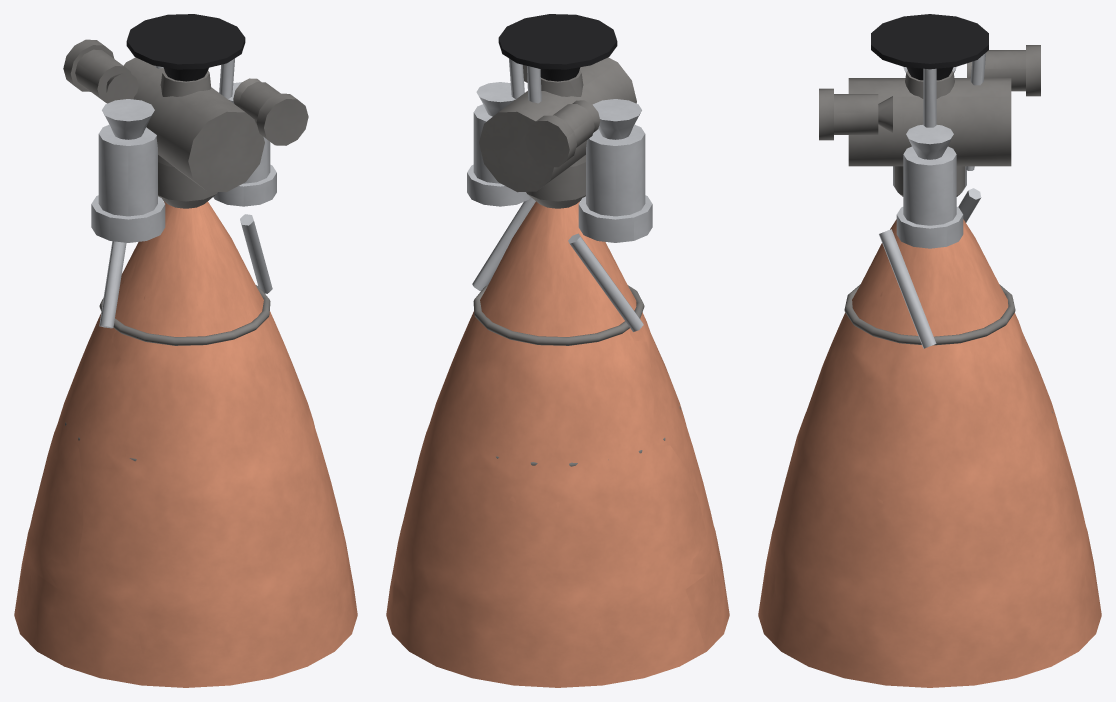
File: prop12_rs25.glb
3 renders of one model, left to right at view 1: azimuth 30°, elevation 25°; view 2: azimuth 150°, elevation 25°; view 3: azimuth 270°, elevation 25°, orthographic.
Parts seen in each view (by area): view 1: nozzle, hot_gas_manifold, hp_fuel_turbopump, lp_turbopumps, gimbal_mount, steerhorn_feedlines, hp_ox_turbopump, nozzle_hatbands, chamber, injector_dome; view 2: nozzle, hp_fuel_turbopump, hot_gas_manifold, gimbal_mount, lp_turbopumps, hp_ox_turbopump, steerhorn_feedlines, nozzle_hatbands, chamber, gimbal_actuators, injector_dome; view 3: nozzle, hot_gas_manifold, hp_ox_turbopump, gimbal_mount, lp_turbopumps, steerhorn_feedlines, nozzle_hatbands, gimbal_actuators, injector_dome, chamber.
Part boxes in pixels (box(x1,y1,x2,y2)): nozzle: box(14, 201, 357, 687); hot_gas_manifold: box(123, 57, 264, 192); hp_fuel_turbopump: box(91, 99, 165, 242); lp_turbopumps: box(63, 39, 308, 145); gimbal_mount: box(126, 14, 245, 81); steerhorn_feedlines: box(99, 214, 272, 328); hp_ox_turbopump: box(213, 82, 276, 206); nozzle_hatbands: box(65, 285, 270, 461); chamber: box(158, 162, 217, 208); injector_dome: box(158, 70, 211, 166); nozzle: box(386, 201, 729, 687); hp_fuel_turbopump: box(578, 99, 652, 242); hot_gas_manifold: box(479, 57, 636, 192); gimbal_mount: box(498, 14, 617, 81); lp_turbopumps: box(523, 65, 600, 167); hp_ox_turbopump: box(467, 82, 530, 206); steerhorn_feedlines: box(472, 197, 643, 331); nozzle_hatbands: box(473, 285, 680, 466); chamber: box(526, 162, 585, 208); gimbal_actuators: box(509, 58, 541, 103); injector_dome: box(541, 70, 585, 166); nozzle: box(758, 219, 1101, 687); hot_gas_manifold: box(848, 78, 1011, 166); hp_ox_turbopump: box(896, 125, 963, 248); gimbal_mount: box(871, 14, 988, 80); lp_turbopumps: box(819, 45, 1040, 140); steerhorn_feedlines: box(879, 188, 981, 348); nozzle_hatbands: box(844, 284, 1052, 412); gimbal_actuators: box(923, 52, 986, 170); injector_dome: box(905, 70, 954, 98); chamber: box(894, 166, 965, 196).
Size of the model in its own units: 2.32 by 4.3 by 2.32.
Materials: 4 (3 with a texture image).
